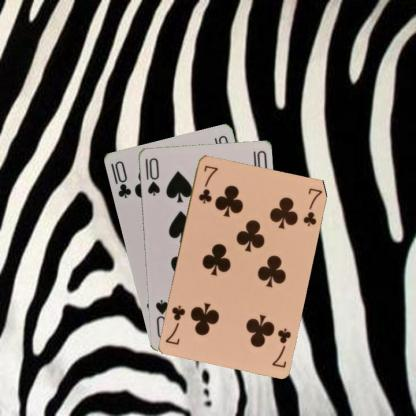10c: (112, 158, 132, 199)
10s: (142, 155, 161, 196)
7c: (269, 324, 292, 368), (195, 162, 219, 204)
